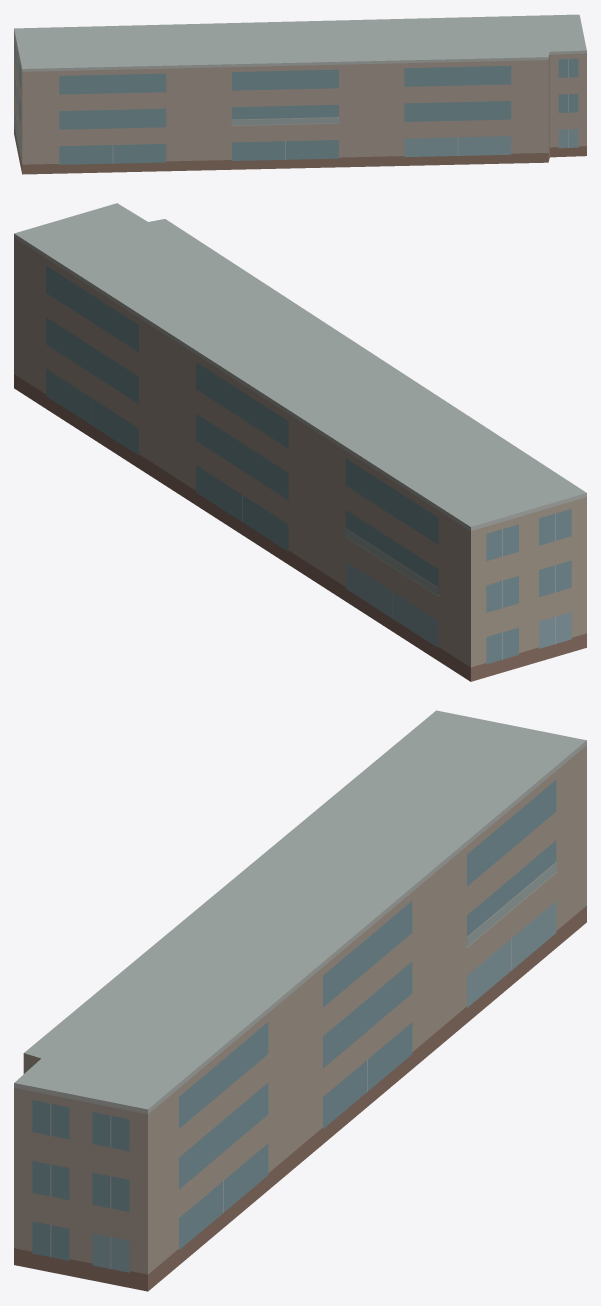
Rendered from survey-upis-32638057.glb.
3 views of the same model, one above another, from view 1: azimuth 30°, elevation 25°; view 2: azimuth 150°, elevation 25°; view 3: azimuth 270°, elevation 25° (orthographic). The views are drawn at different scales.
Visible parts, largest first — view 1: survey-upis-32638057.tmp; view 2: survey-upis-32638057.tmp; view 3: survey-upis-32638057.tmp.
Part boxes in pixels (left/top/right/bottom): survey-upis-32638057.tmp: left=14, top=14, right=586, bottom=174; survey-upis-32638057.tmp: left=14, top=203, right=586, bottom=681; survey-upis-32638057.tmp: left=14, top=710, right=586, bottom=1291.
Size of the model in its own units: 43.02 by 9.15 by 26.1.
